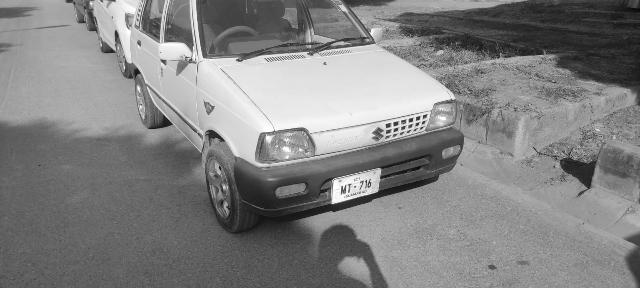Number: (338, 177, 374, 197)
